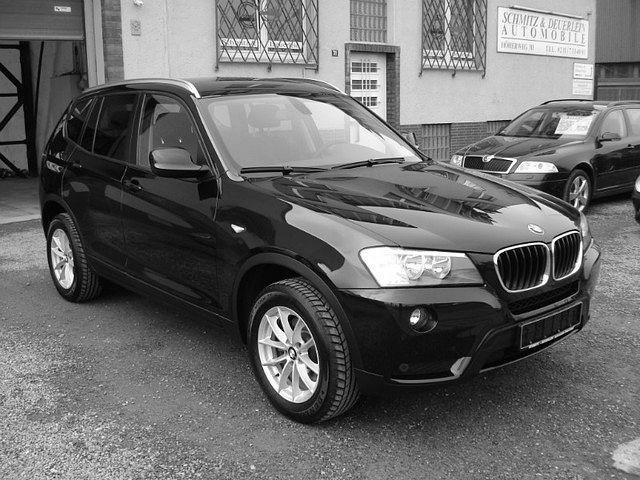car: (37, 78, 602, 427)
